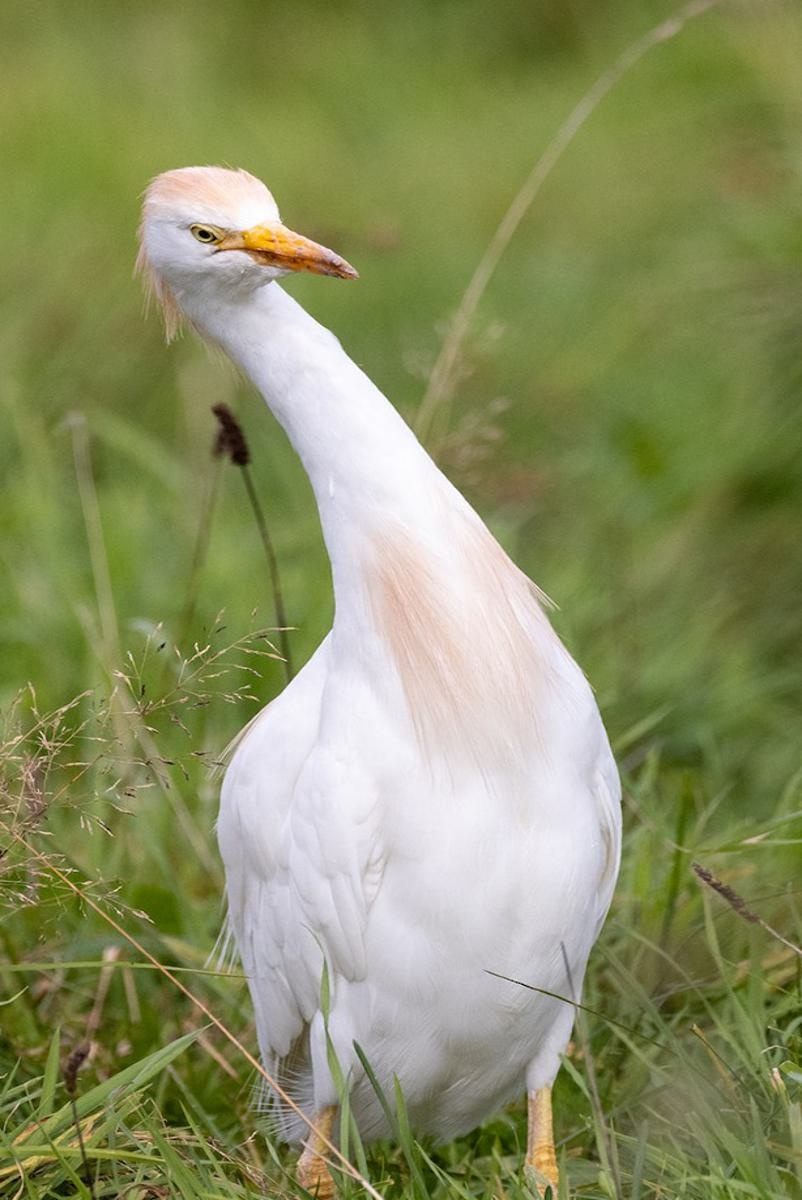egret: (114, 109, 755, 1200)
